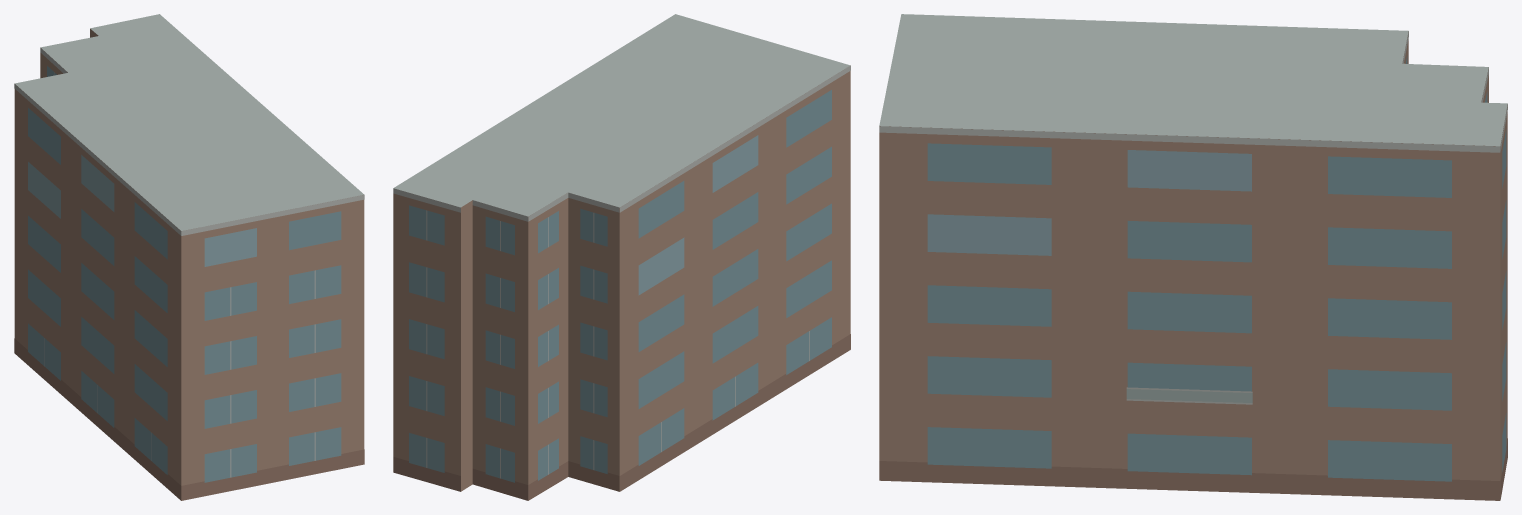
File: survey-upis-32658068.glb
3 renders of one model, left to right at view 1: azimuth 30°, elevation 25°; view 2: azimuth 150°, elevation 25°; view 3: azimuth 270°, elevation 25°, orthographic. The views are drawn at different scales.
Parts seen in each view (by area): view 1: survey-upis-32658068.tmp; view 2: survey-upis-32658068.tmp; view 3: survey-upis-32658068.tmp.
Part boxes in pixels (bbox=[...]): survey-upis-32658068.tmp: bbox=[14, 14, 364, 500]; survey-upis-32658068.tmp: bbox=[393, 14, 850, 500]; survey-upis-32658068.tmp: bbox=[879, 14, 1507, 500].
Size of the model in its own units: 10.61 by 13.25 by 21.29.
